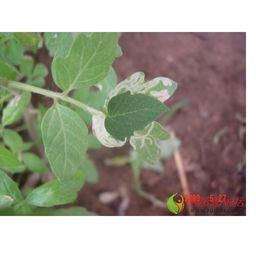liriomyza: (108, 70, 178, 103), (91, 111, 126, 149), (130, 121, 155, 151)
